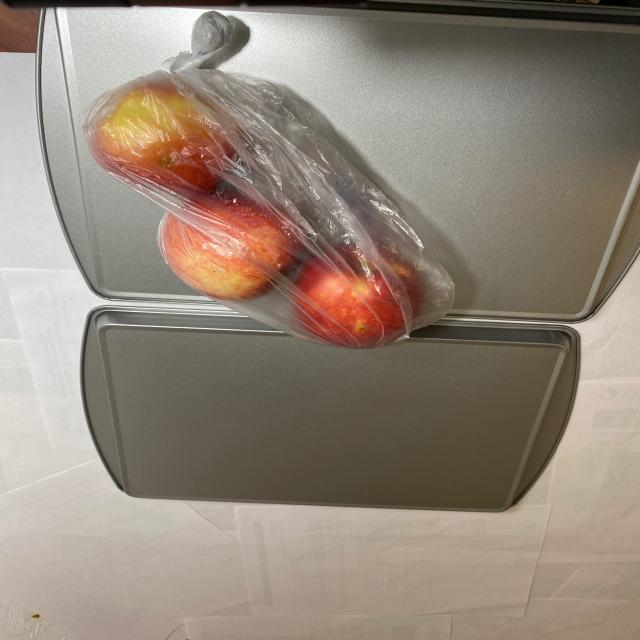apple: (80, 64, 440, 354)
